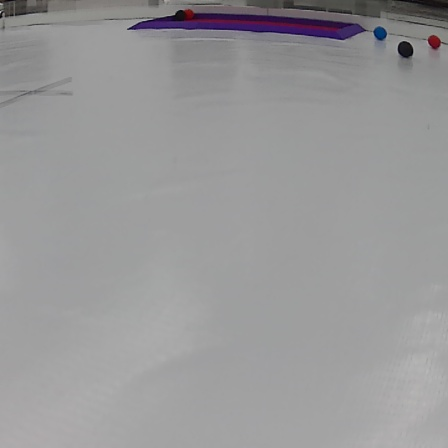black: (397, 41, 415, 58), (176, 10, 184, 21)
blue: (373, 24, 385, 43)
red: (428, 36, 442, 49), (184, 9, 194, 18)
red_aim: (129, 11, 367, 40)
